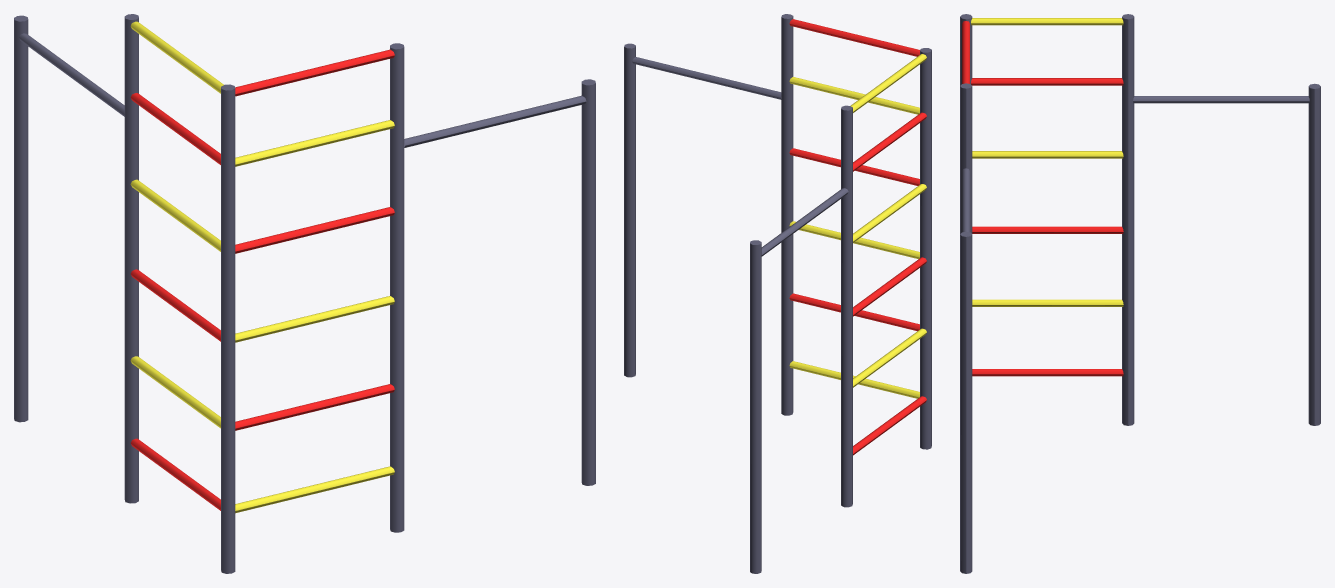
Rendered from SM_Crossbar_Stairs_01.fbx.
The picture shows the model from 3 angles, left to right: view 1: azimuth 30°, elevation 25°; view 2: azimuth 150°, elevation 25°; view 3: azimuth 270°, elevation 25°; orthographic projection. The views are drawn at different scales.
Parts seen in each view (by area): view 1: SM_Crossbar_Stairs_01; view 2: SM_Crossbar_Stairs_01; view 3: SM_Crossbar_Stairs_01.
Boxes of the visible parts, left/top/right/bottom form: SM_Crossbar_Stairs_01: left=14, top=14, right=595, bottom=573; SM_Crossbar_Stairs_01: left=624, top=14, right=931, bottom=573; SM_Crossbar_Stairs_01: left=960, top=14, right=1320, bottom=573.
Size of the model in its own units: 195 by 241 by 194.
Materials: 1 (1 with a texture image).
